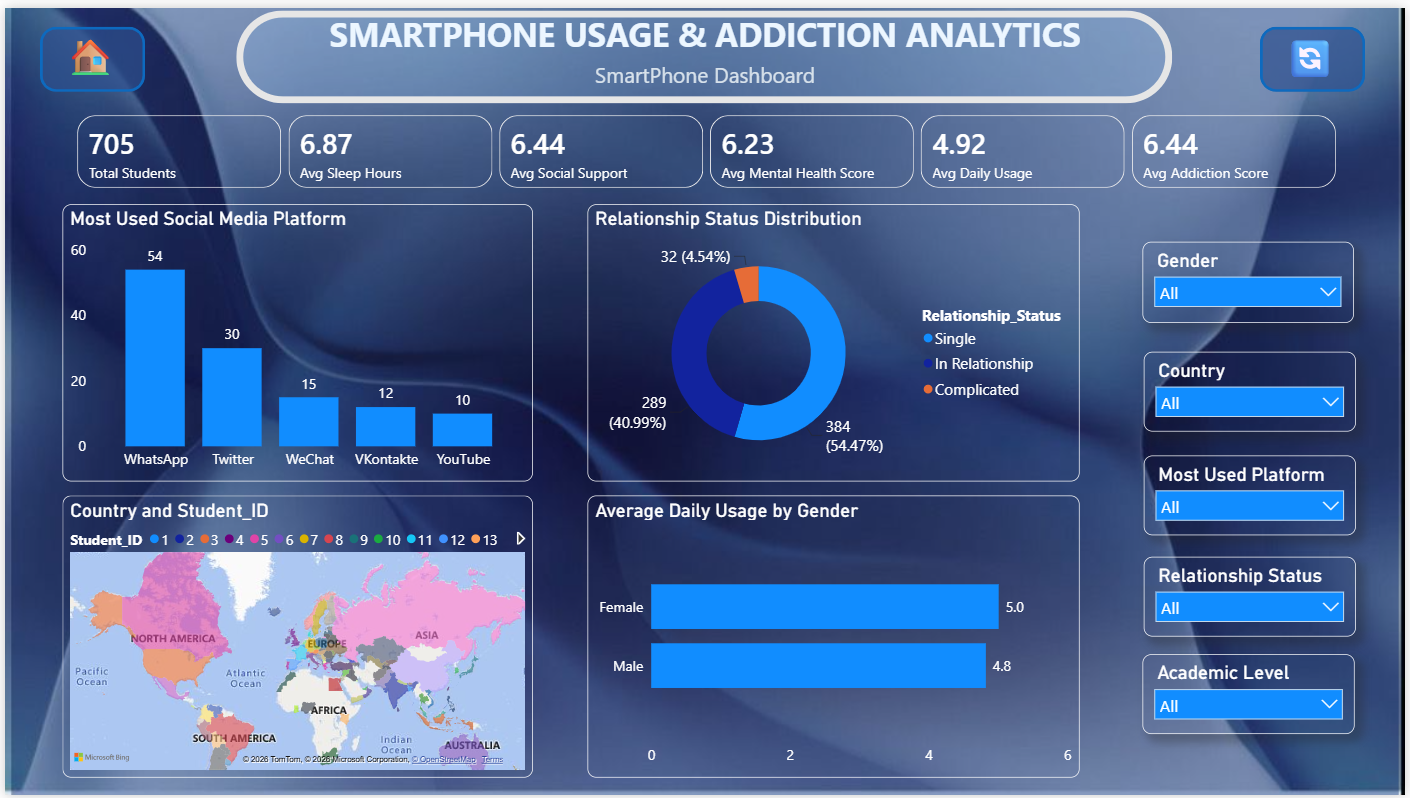

Layout of this report page (visuals, bound fields, positions):
{"tool":"powerbi","page":{"name":"Smartphone","canvas":[1600,900],"ordinal":2},"visuals":[{"type":"textbox","box":[0,0,1600.3,64],"z":0},{"type":"textbox","box":[0,55.2,1600.3,43.6],"z":1000},{"type":"shape","box":[264.5,2.9,1069.8,106.1],"z":2000},{"type":"cardVisual","fields":{"Data":["Students Social Media Addiction.Total Students","Students Social Media Addiction.Avg Sleep Hours","Students Social Media Addiction.Avg Social Support","Students Social Media Addiction.Avg Mental Health Score","Students Social Media Addiction.Avg Daily Usage","Students Social Media Addiction.Avg Addiction Score"]},"box":[65.4,106.1,1476.7,117.7],"z":3000},{"type":"clusteredColumnChart","title":"Most Used Social Media Platform","fields":{"Category":["Students Social Media Addiction.Most_Used_Platform"],"Y":["CountNonNull(Students Social Media Addiction.Most_Used_Platform)"]},"box":[65.4,223.8,537.8,316.9],"z":4000},{"type":"clusteredBarChart","title":"Average Daily Usage by Gender","fields":{"Category":["Students Social Media Addiction.Gender"],"Y":["Avg(Students Social Media Addiction.Avg_Daily_Usage_Hours)"]},"box":[665.7,556.7,562.5,322.7],"z":5000},{"type":"donutChart","title":"Relationship Status Distribution","fields":{"Category":["Students Social Media Addiction.Relationship_Status"],"Y":["CountNonNull(Students Social Media Addiction.Student_ID)"]},"box":[665.7,223.8,562.5,316.9],"z":6000},{"type":"filledMap","fields":{"Category":["Students Social Media Addiction.Country"],"Series":["Students Social Media Addiction.Student_ID"]},"box":[65.4,556.7,537.8,322.7],"z":7000},{"type":"slicer","fields":{"Values":["Students Social Media Addiction.Gender"]},"box":[1299.4,267.4,241.3,93],"z":8000},{"type":"slicer","fields":{"Values":["Students Social Media Addiction.Affects_Academic_Performance"]},"box":[1300.9,392.4,242.7,91.6],"z":9000},{"type":"slicer","fields":{"Values":["Students Social Media Addiction.Most_Used_Platform"]},"box":[1300.9,511.6,242.7,91.6],"z":10000},{"type":"slicer","fields":{"Values":["Students Social Media Addiction.Relationship_Status"]},"box":[1300.9,626.5,242.7,91.6],"z":11000},{"type":"slicer","fields":{"Values":["Students Social Media Addiction.Academic_Level"]},"box":[1299.4,738.4,242.7,91.6],"z":12000},{"type":"shape","box":[40,21.4,120,74.3],"z":13000},{"type":"shape","box":[1434.3,21.4,120,74.3],"z":14000},{"type":"textbox","box":[62.9,20,74.3,75.7],"z":15000},{"type":"textbox","box":[1457.1,21.4,75.7,85.7],"z":16000}]}

Visuals, with their boxes in screenshot pixels (x1, y1, x2, y2), scaled from the page's 1600x900 canvas onto the 1410x798 screenshot:
textbox: 0 0 1409 57
textbox: 0 49 1409 88
shape: 233 3 1176 97
cardVisual - Students Social Media Addiction.Total Students x Students Social Media Addiction.Avg Sleep Hours: 58 94 1359 198
"Most Used Social Media Platform" clusteredColumnChart: 58 198 532 479
"Average Daily Usage by Gender" clusteredBarChart: 587 494 1082 780
"Relationship Status Distribution" donutChart: 587 198 1082 479
filledMap - Students Social Media Addiction.Country x Students Social Media Addiction.Student_ID: 58 494 532 780
slicer - Students Social Media Addiction.Gender: 1145 237 1358 320
slicer - Students Social Media Addiction.Affects_Academic_Performance: 1146 348 1360 429
slicer - Students Social Media Addiction.Most_Used_Platform: 1146 454 1360 535
slicer - Students Social Media Addiction.Relationship_Status: 1146 555 1360 637
slicer - Students Social Media Addiction.Academic_Level: 1145 655 1359 736
shape: 35 19 141 85
shape: 1264 19 1370 85
textbox: 55 18 121 85
textbox: 1284 19 1351 95
